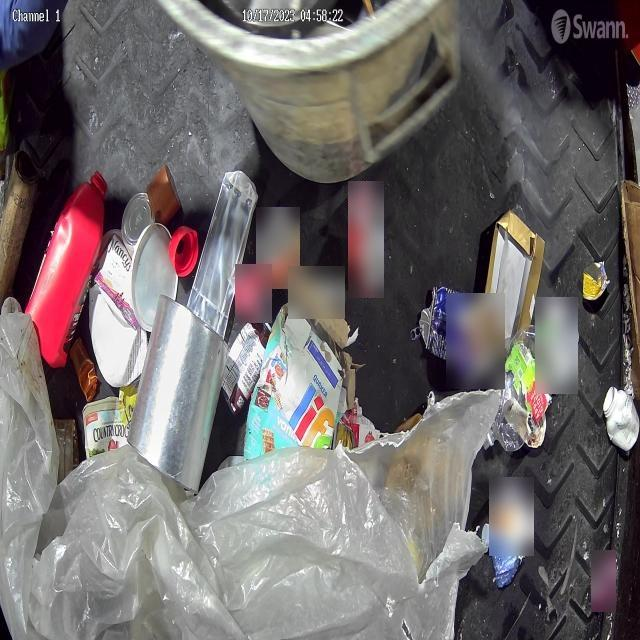non_white_jug: (23, 171, 108, 370)
